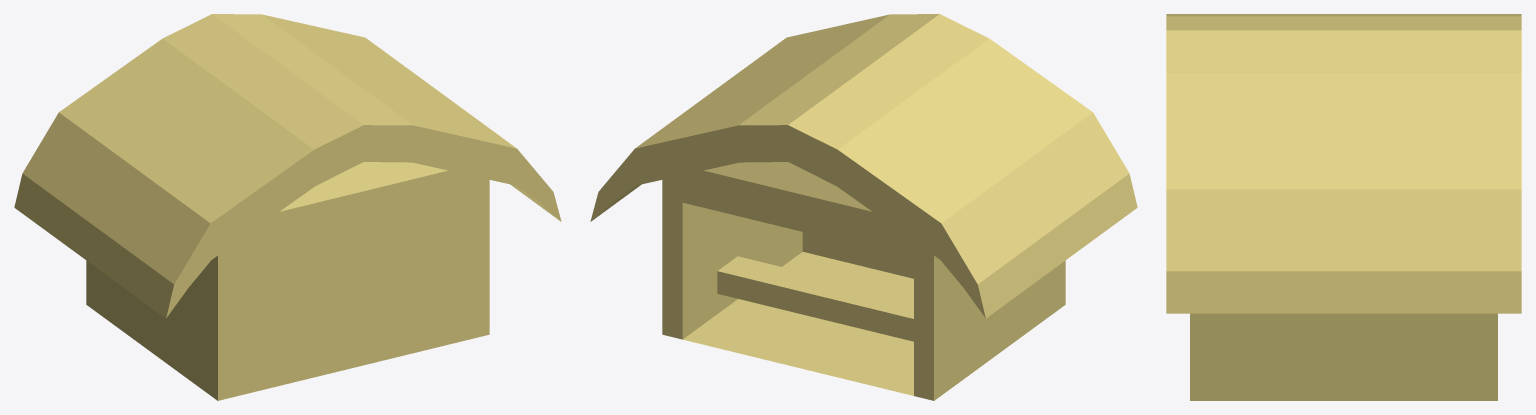
Rendered from Loja Barqueiro 1.fbx.
3 views of the same model, side by side, from view 1: azimuth 30°, elevation 25°; view 2: azimuth 150°, elevation 25°; view 3: azimuth 270°, elevation 25° (orthographic). The views are drawn at different scales.
Parts seen in each view (by area): view 1: Teto; view 2: Teto; view 3: Teto.
Boxes of the visible parts, box(x1,y1,x2,y2) form: Teto: box(14, 14, 561, 400); Teto: box(590, 14, 1137, 400); Teto: box(1166, 14, 1521, 400).
Size of the model in its own units: 1740 by 1051 by 1156.
